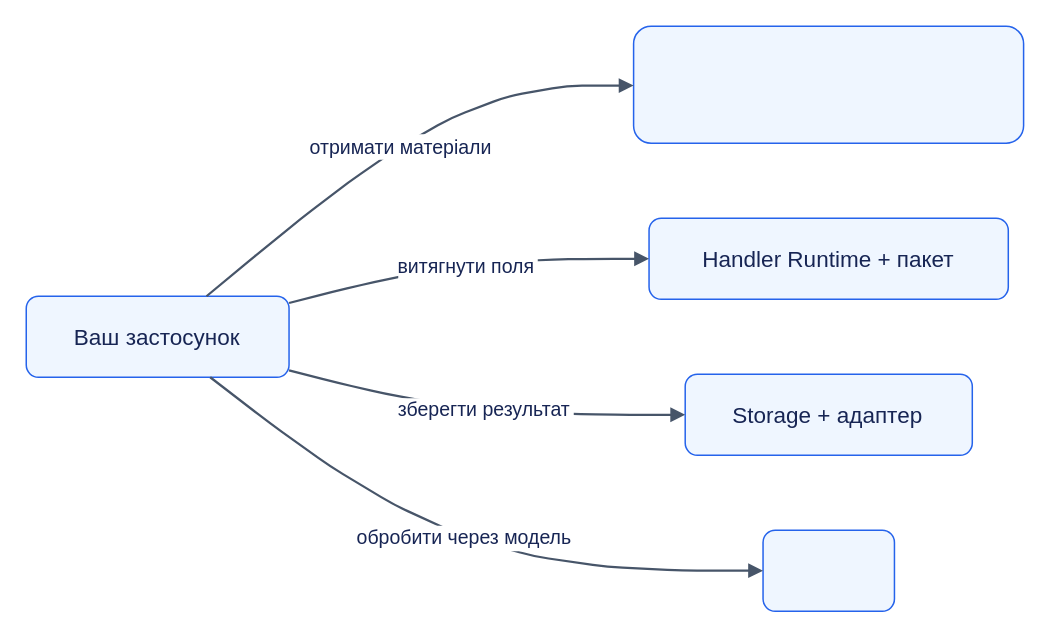
The diagram is 1050 pixels wide and 638 high, and some of its shapes have lost their labels. The centre of each missing label's shape, as x and y in pixels:
"LLM" goes at [828,570].
"Web або Telegram Collector" goes at [828,84].
